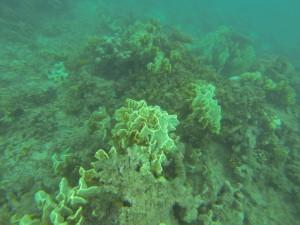bleached_corals: (19, 23, 245, 225)
